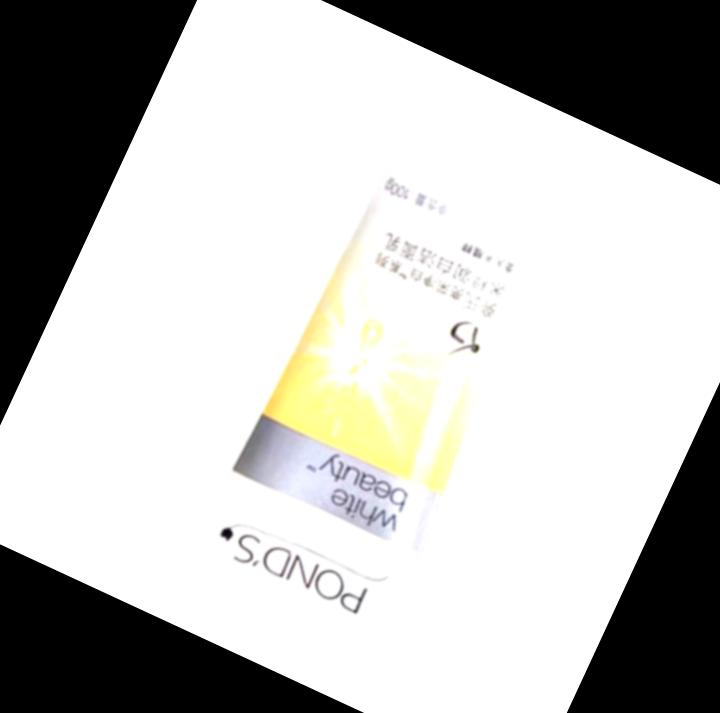cosmetic: (160, 62, 622, 689)
